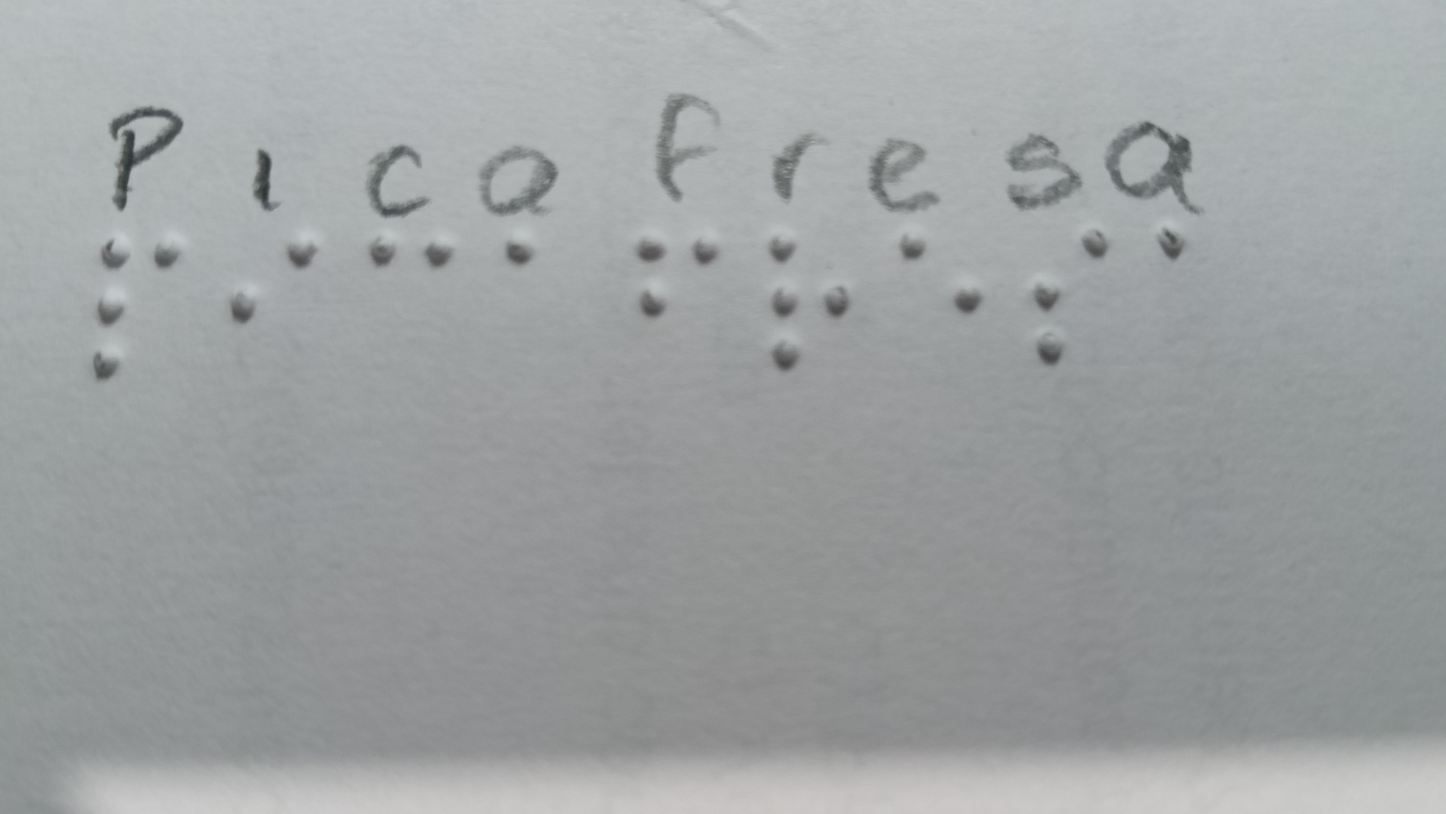a: (1125, 213, 1217, 271), (475, 223, 555, 278)
c: (344, 220, 459, 284)
e: (879, 230, 985, 330)
f: (615, 220, 727, 333)
i: (214, 222, 335, 333)
p: (74, 218, 191, 385)
r: (737, 227, 859, 386)
s: (1003, 222, 1122, 372)
